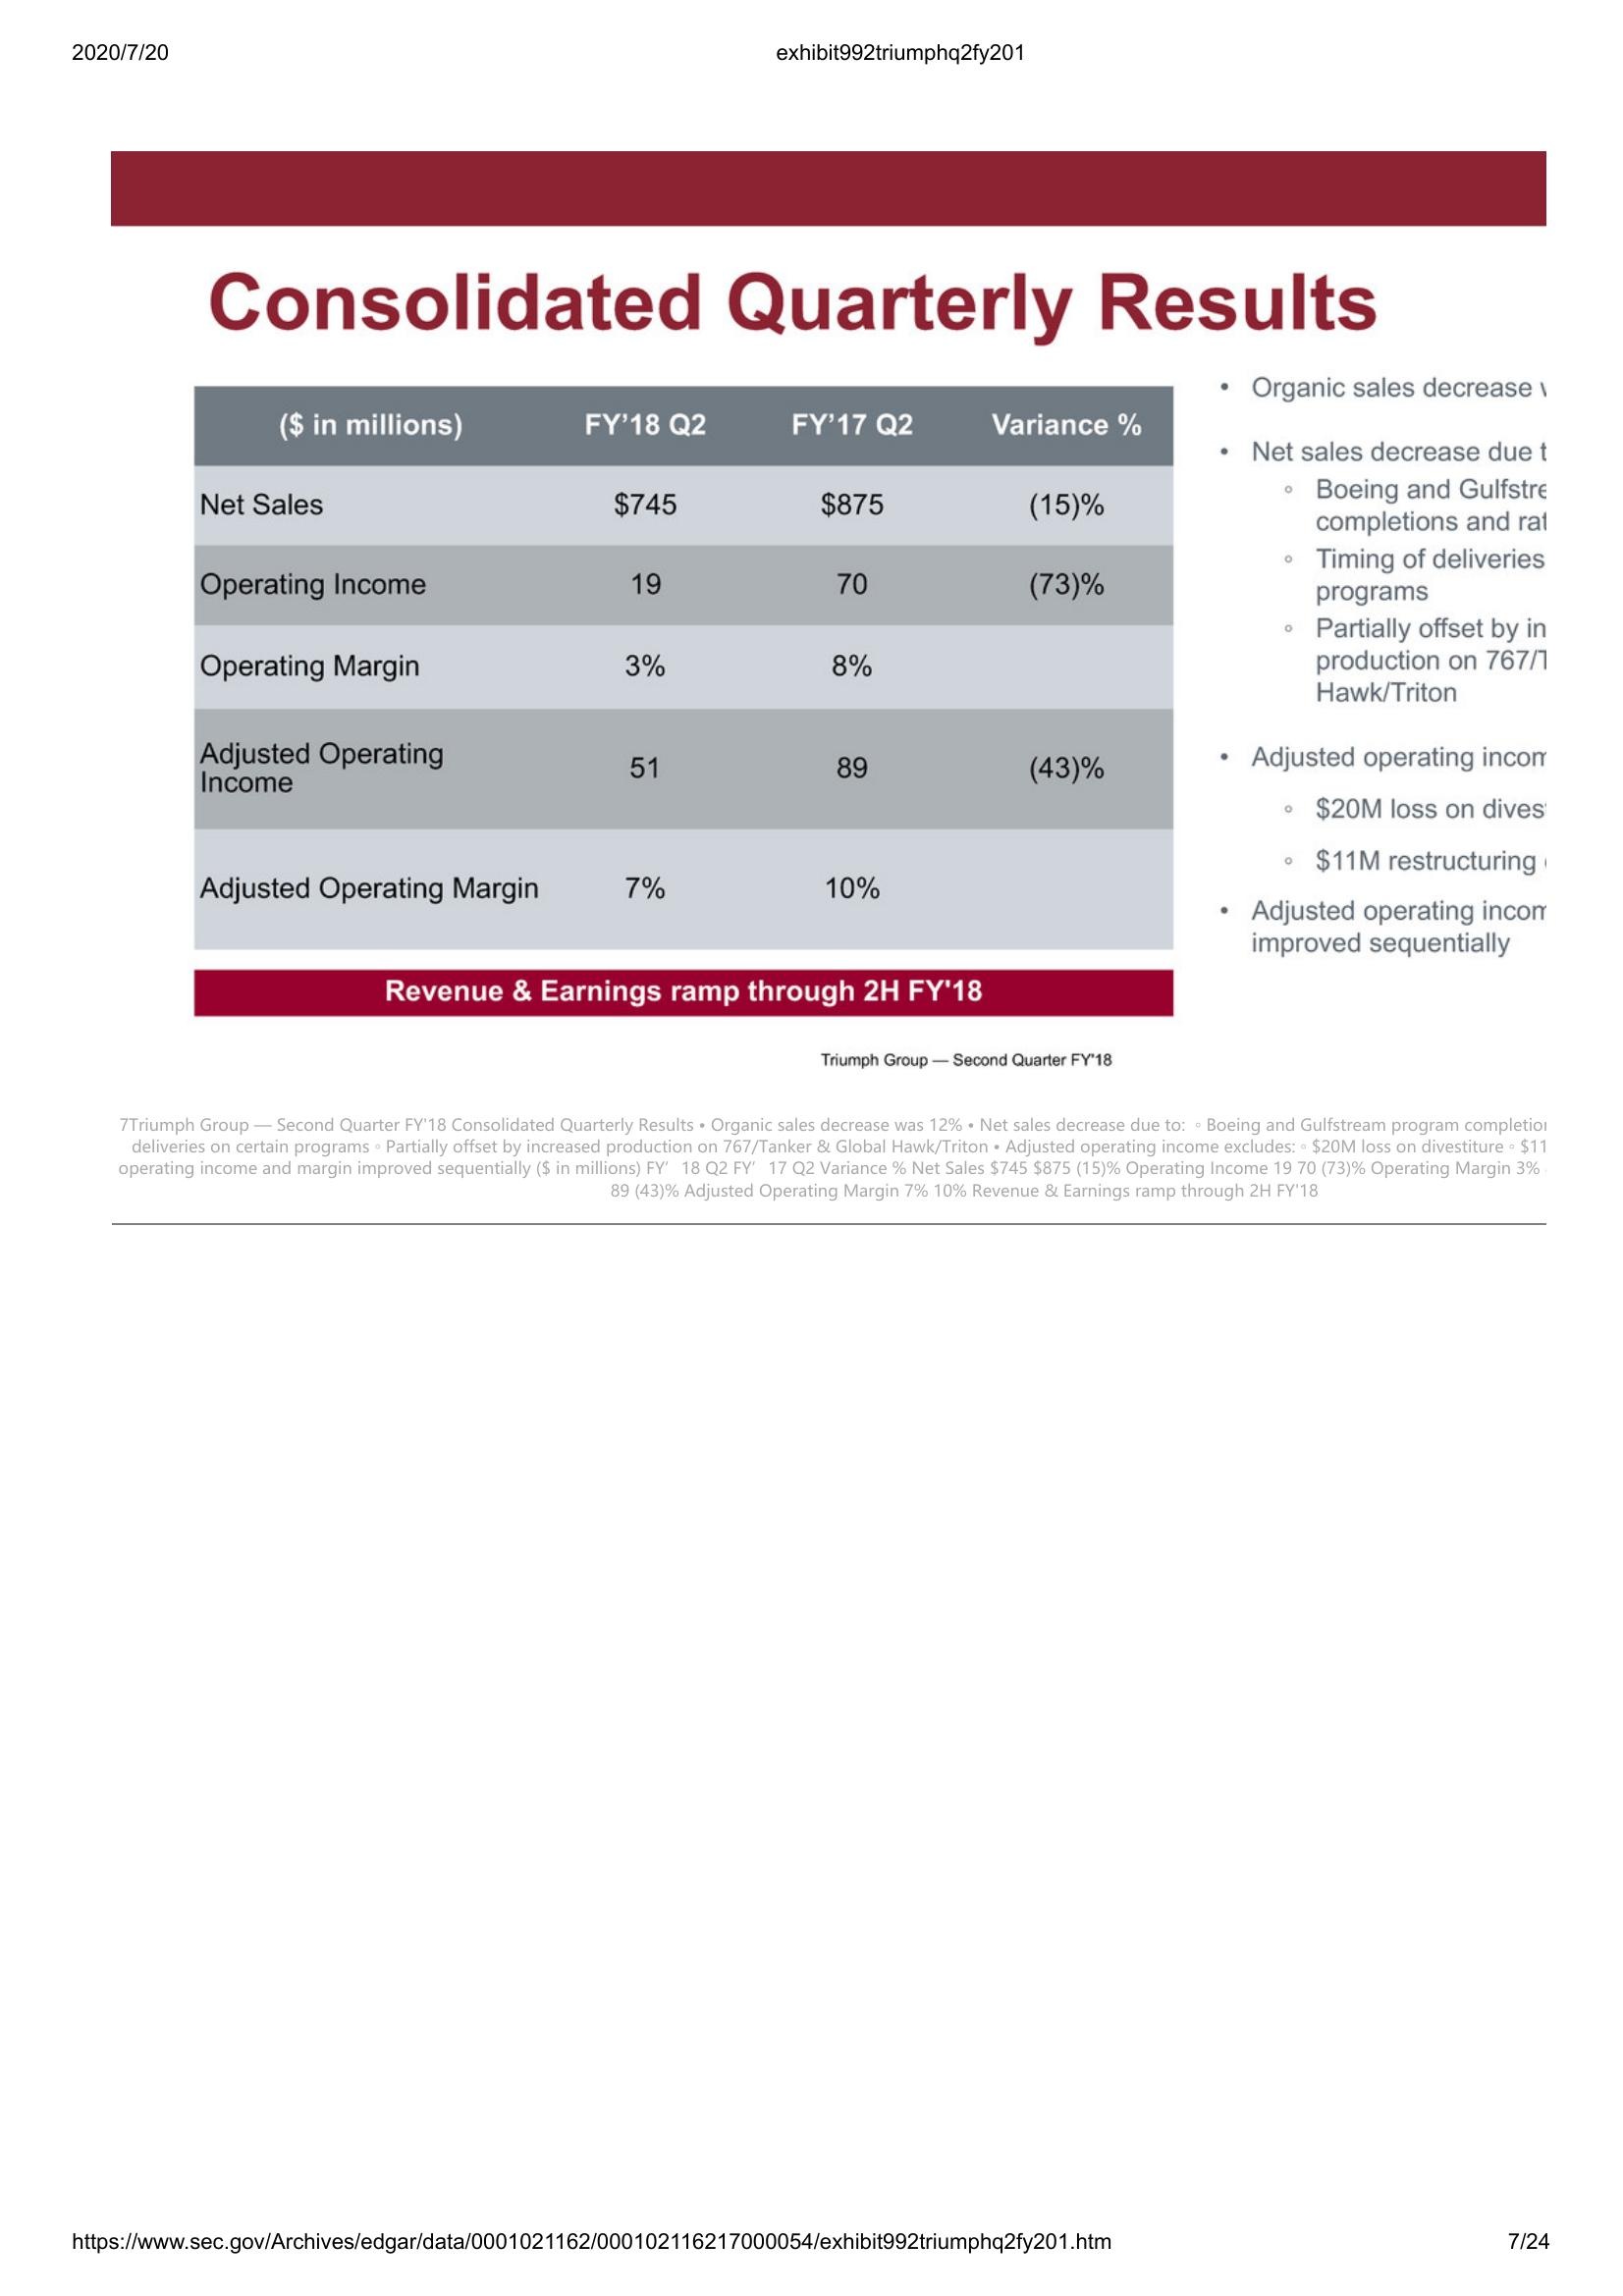table: (188, 376, 1186, 958)
